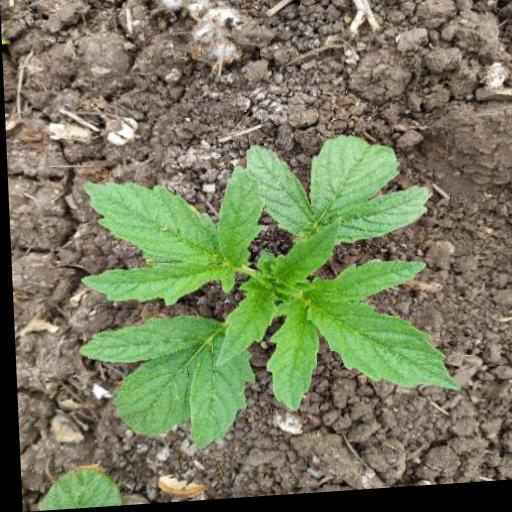crop: (65, 141, 437, 456)
